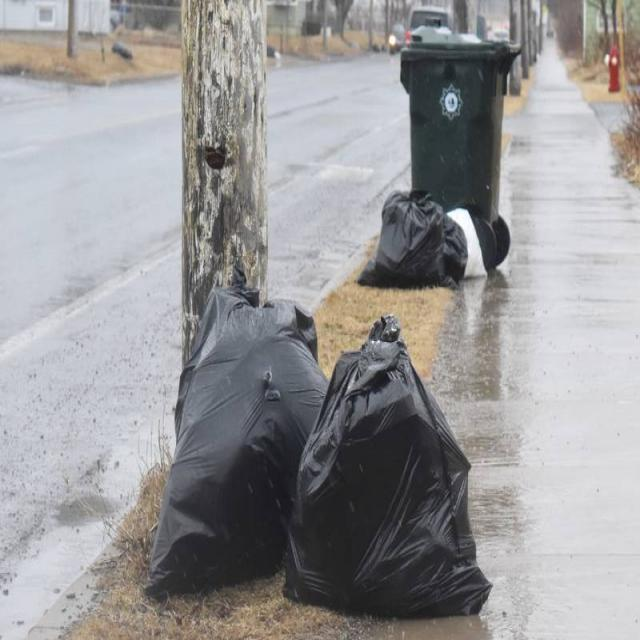garbage: (144, 264, 499, 634), (356, 168, 494, 276)
